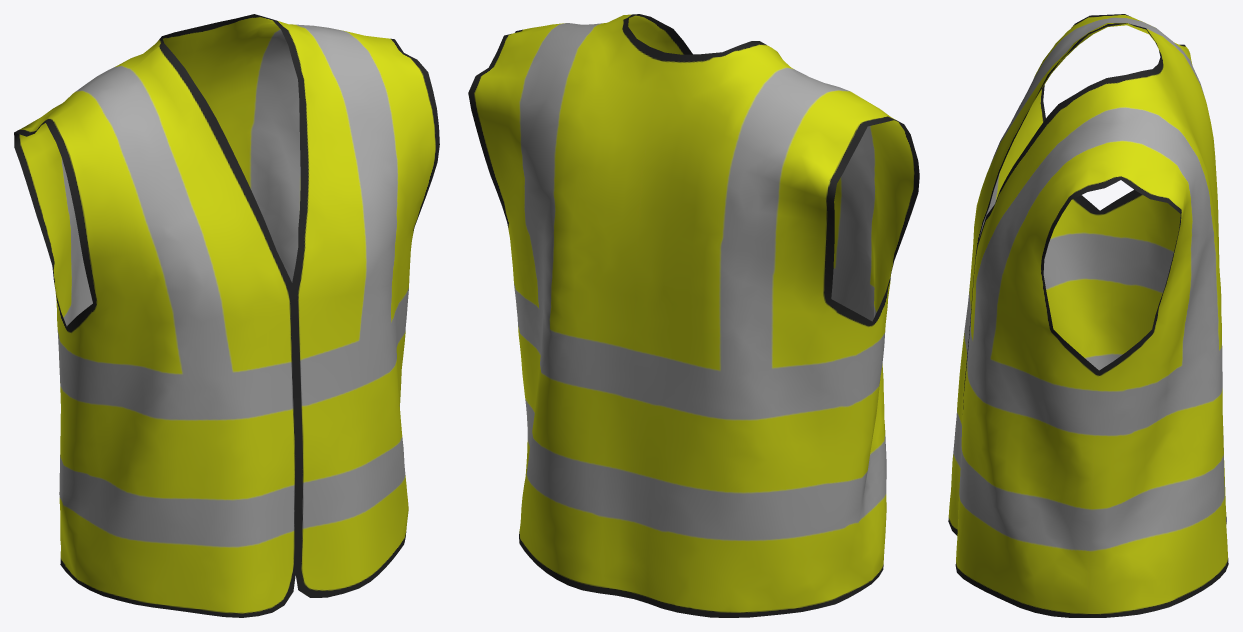
Rendered from high_visibilty_vest_1.glb.
The picture shows the model from 3 angles, left to right: view 1: azimuth 30°, elevation 25°; view 2: azimuth 150°, elevation 25°; view 3: azimuth 270°, elevation 25°; orthographic projection. The views are drawn at different scales.
Parts seen in each view (by area): view 1: high-vis-vest-1-1_0; view 2: high-vis-vest-1-1_0; view 3: high-vis-vest-1-1_0.
Part boxes in pixels (x1=…): high-vis-vest-1-1_0: x1=14, y1=14, x2=439, y2=617; high-vis-vest-1-1_0: x1=468, y1=14, x2=919, y2=617; high-vis-vest-1-1_0: x1=948, y1=14, x2=1228, y2=617.
Size of the model in its own units: 0.4538 by 0.6052 by 0.3076.
Materials: 1 (1 with a texture image).
